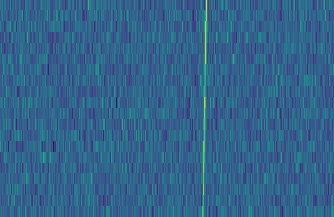signal: (198, 0, 211, 217)
